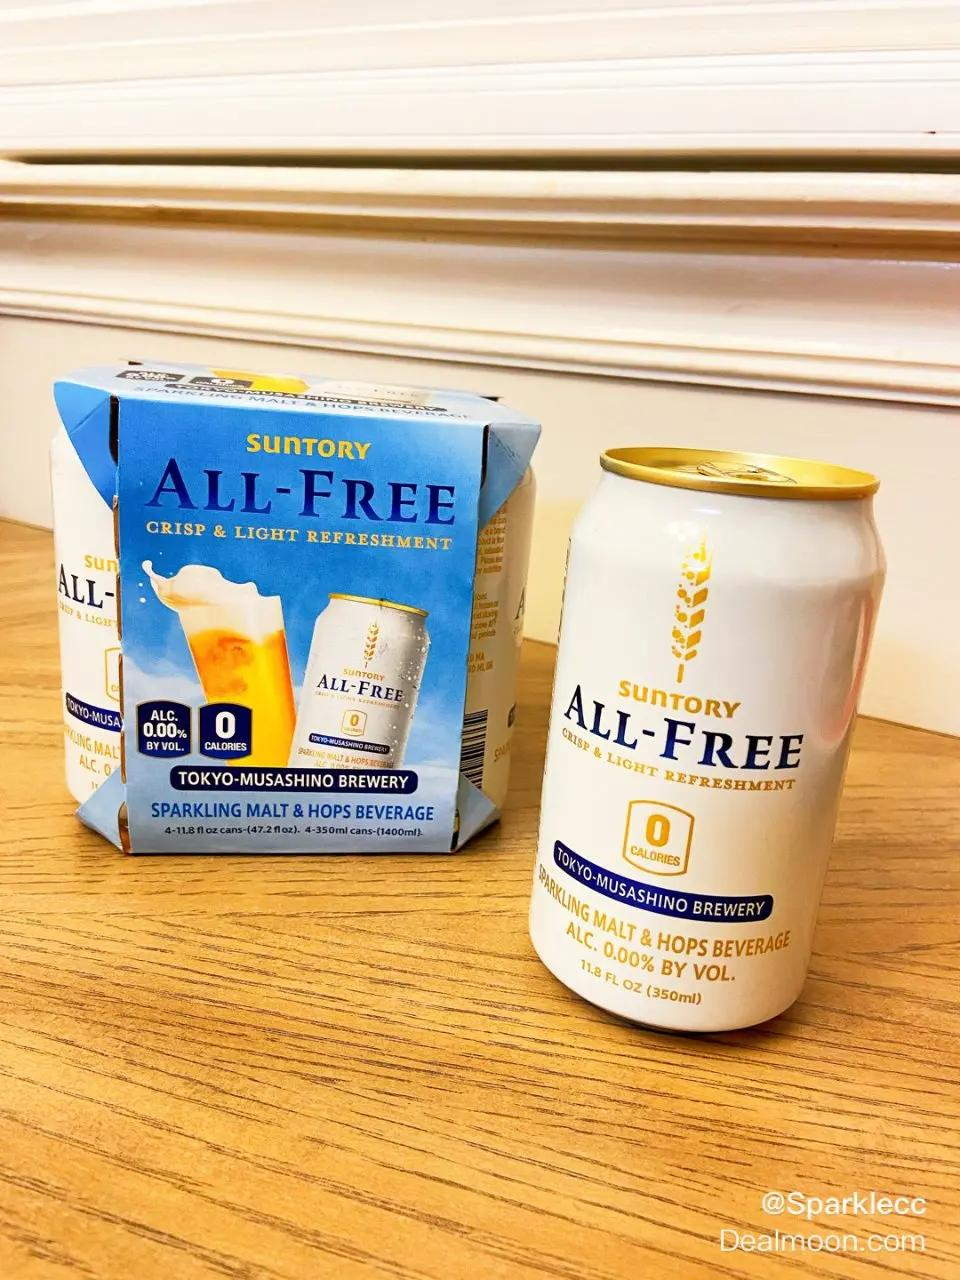cardboard: (45, 350, 531, 864)
metal: (521, 445, 884, 1044)
